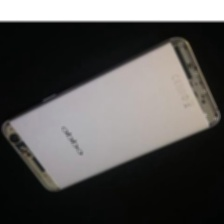phone: (0, 34, 224, 194)
